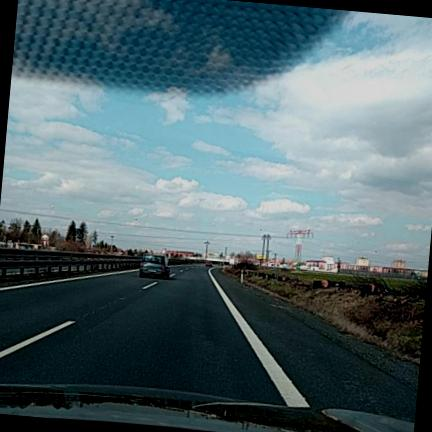Road: (0, 266, 418, 421)
